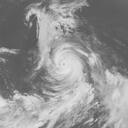cyclone: (45, 43, 92, 86)
